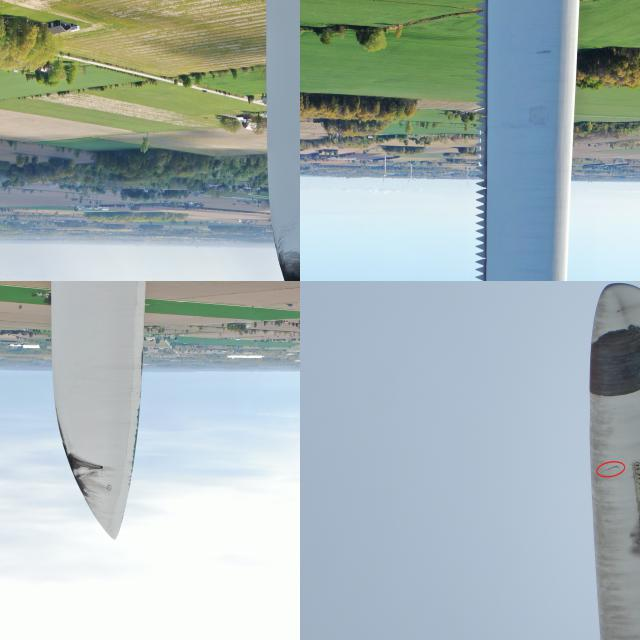damage: (577, 321, 639, 400), (54, 408, 94, 498), (268, 231, 299, 280), (128, 399, 140, 473), (136, 348, 144, 378), (97, 462, 103, 470)
